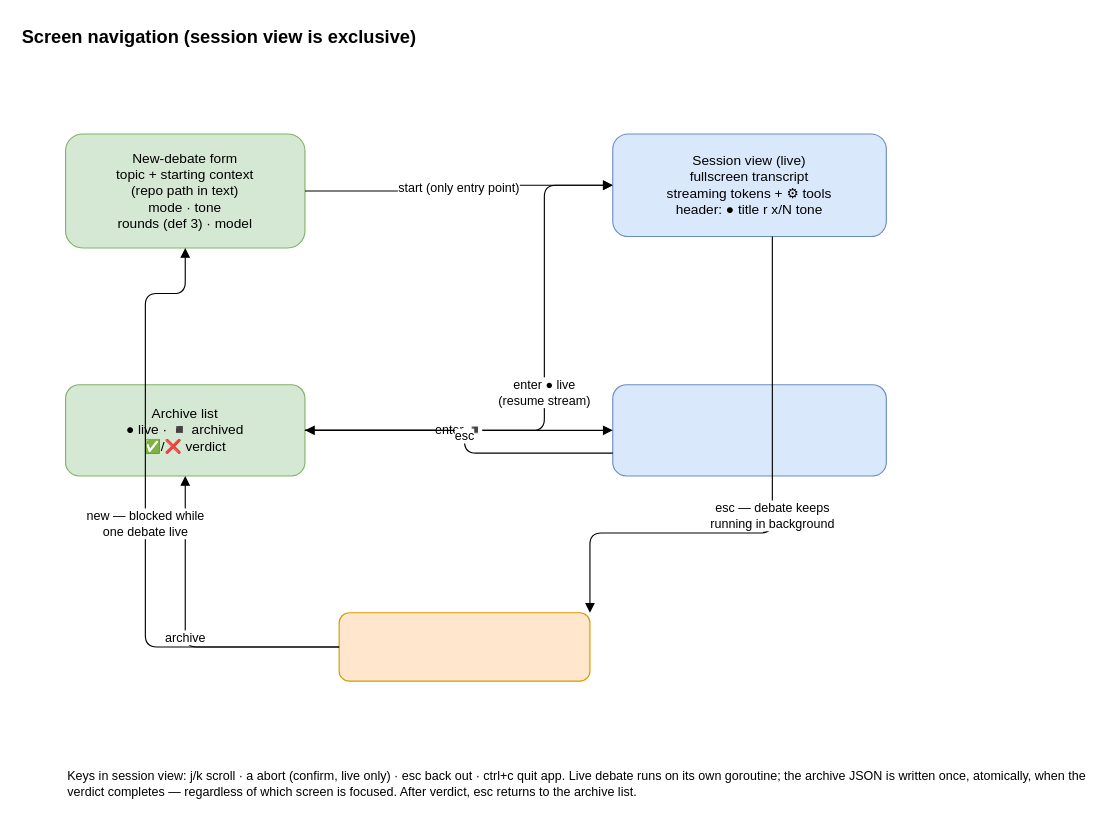
This 1110x837 diagram has some shape labels left out. The shapes that lost their labels are listed below. From the top down, each one's box as (x1, y1, x2, y2) in pixels, then its label:
(612, 384, 886, 476): Session view (archived) read-only, same layout verdict banner
(338, 612, 590, 681): Menu (new · archive · resume live)
